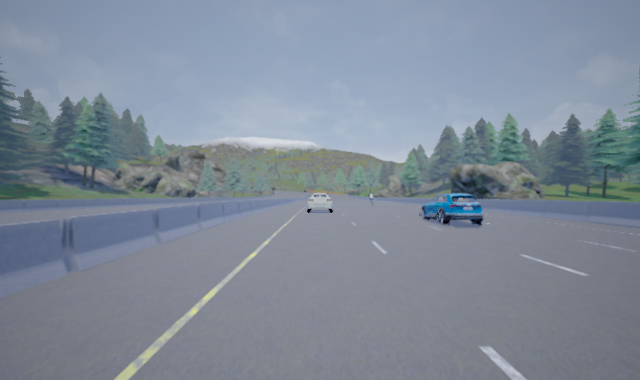vehicle: (419, 192, 483, 224), (306, 192, 333, 213)
